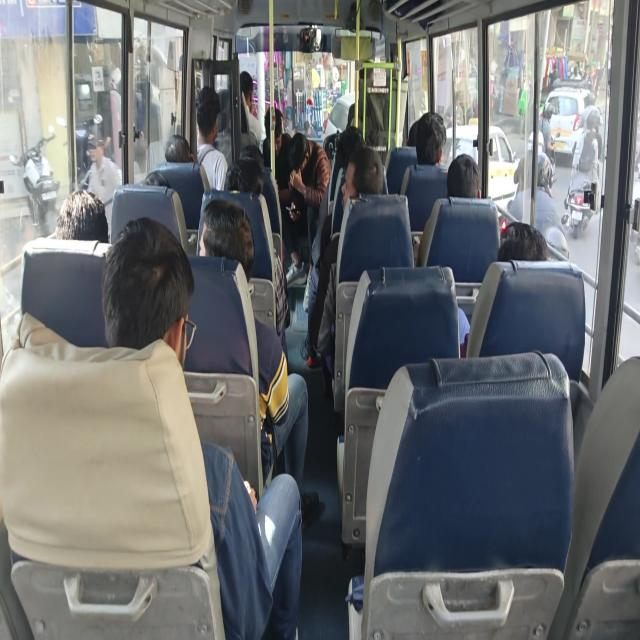person: (101, 216, 303, 638), (198, 198, 319, 522), (314, 146, 385, 374), (458, 220, 549, 347), (284, 131, 331, 281), (508, 150, 568, 258), (81, 116, 122, 238), (195, 85, 228, 191), (287, 132, 331, 210), (53, 188, 109, 242), (262, 106, 292, 189), (497, 220, 549, 262), (411, 111, 446, 165), (239, 70, 262, 148), (224, 156, 264, 195), (446, 154, 480, 198), (164, 133, 192, 163)
